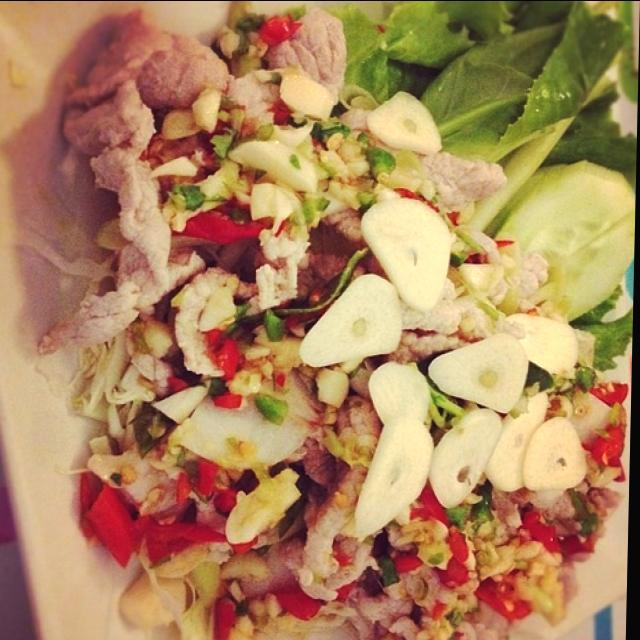猪肉菜式: (23, 8, 626, 635)
